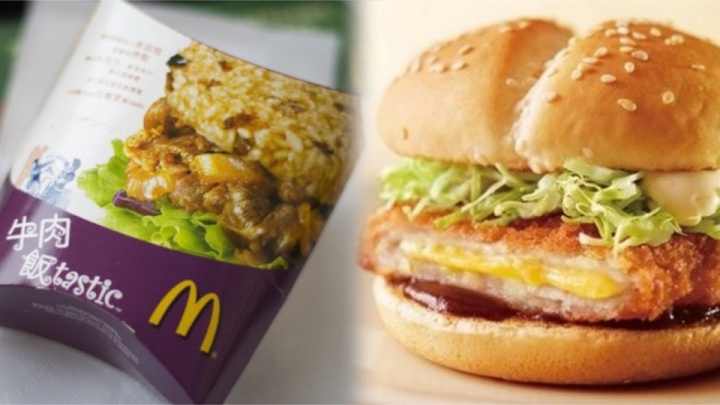mcdonalds: (133, 275, 234, 356)
